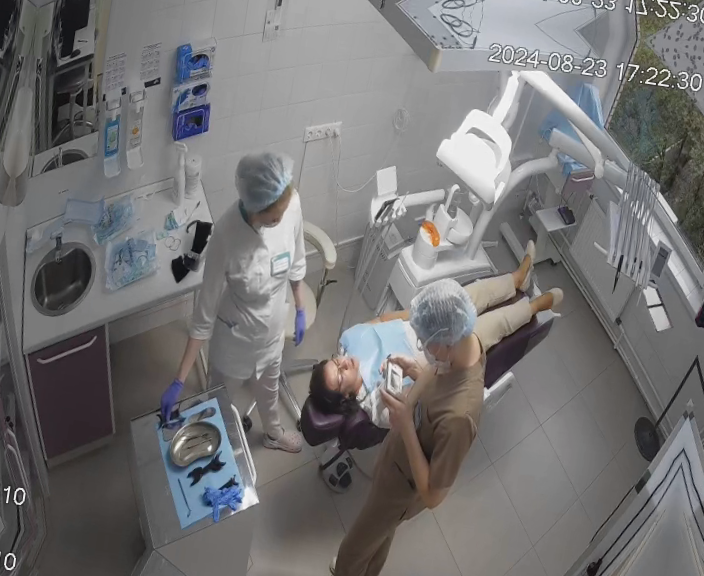Patient: (290, 205, 572, 477)
